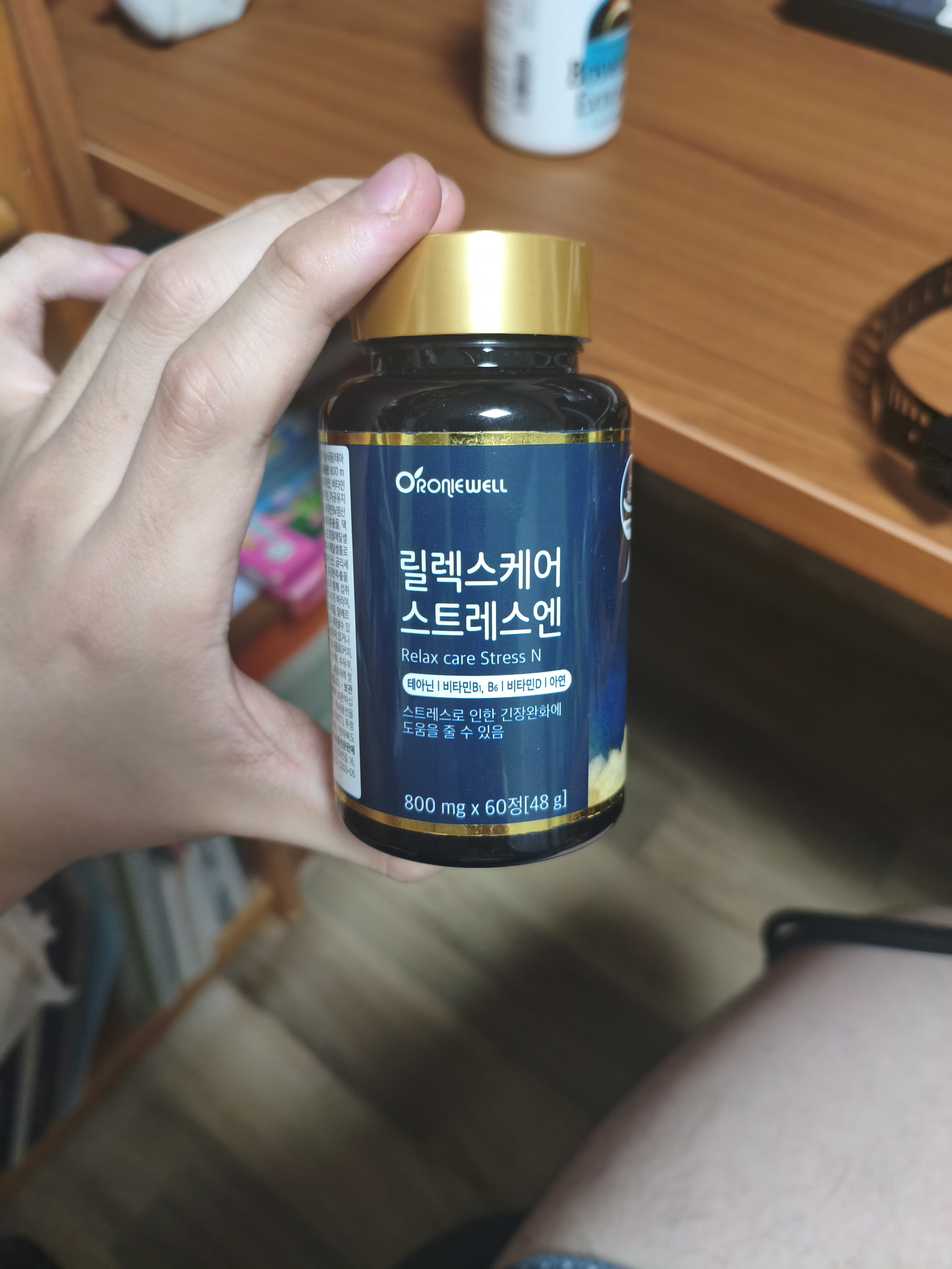supplement_label: (298, 407, 673, 847)
